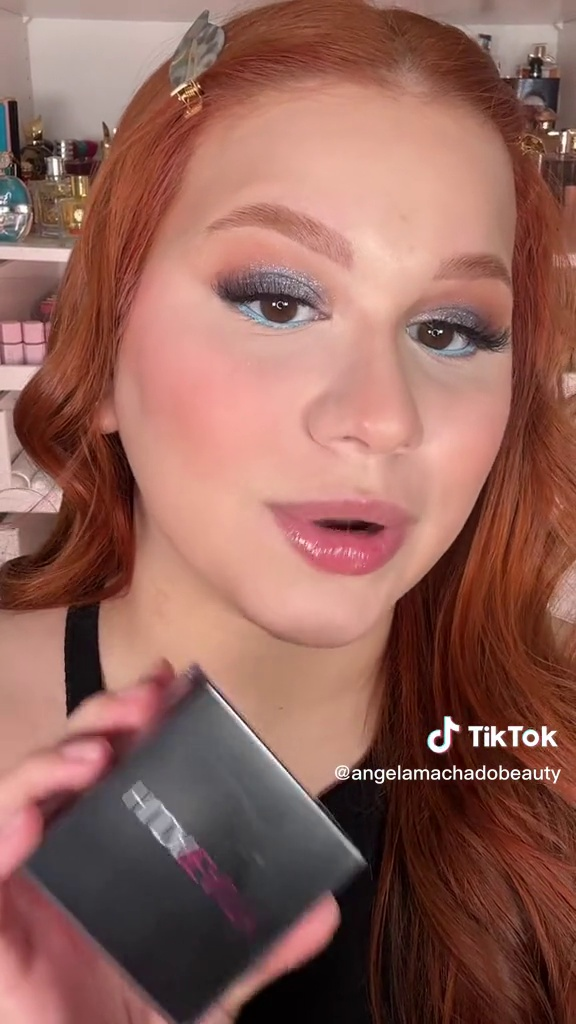train' :'yolo_data/train/images',: (1, 657, 374, 1023)
